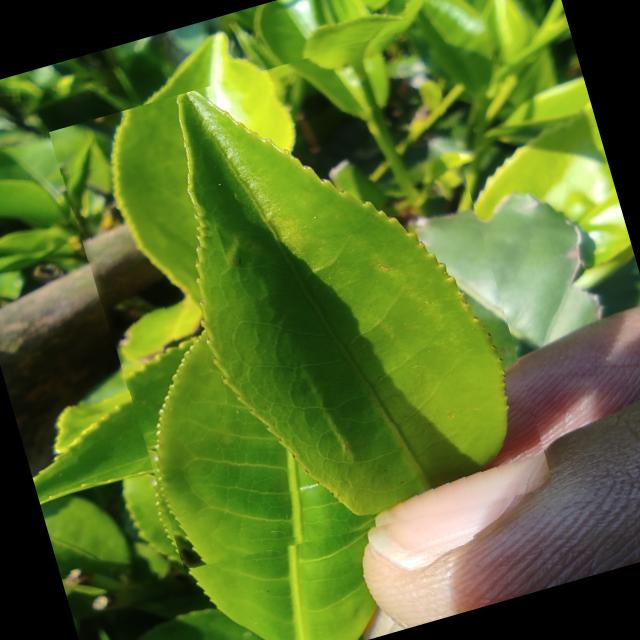Category C(4-7 days): (48, 24, 554, 594)
